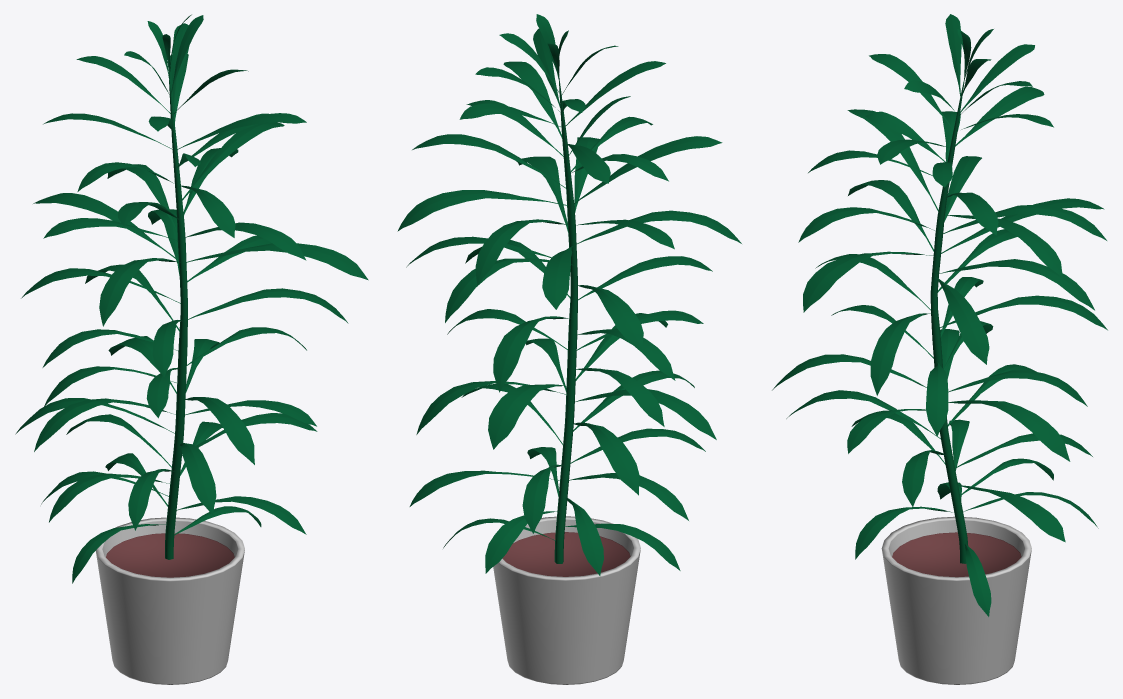
The model's file is flower_3.fbx.
3 views of the same model, side by side, from view 1: azimuth 30°, elevation 25°; view 2: azimuth 150°, elevation 25°; view 3: azimuth 270°, elevation 25° (orthographic).
Visible parts, largest first — view 1: 03; view 2: 03; view 3: 03.
Part boxes in pixels (x1,y1,x2,y2): 03: [15, 14, 368, 684]; 03: [397, 14, 741, 684]; 03: [772, 14, 1107, 684].
Size of the model in its own units: 134 by 283 by 135.
